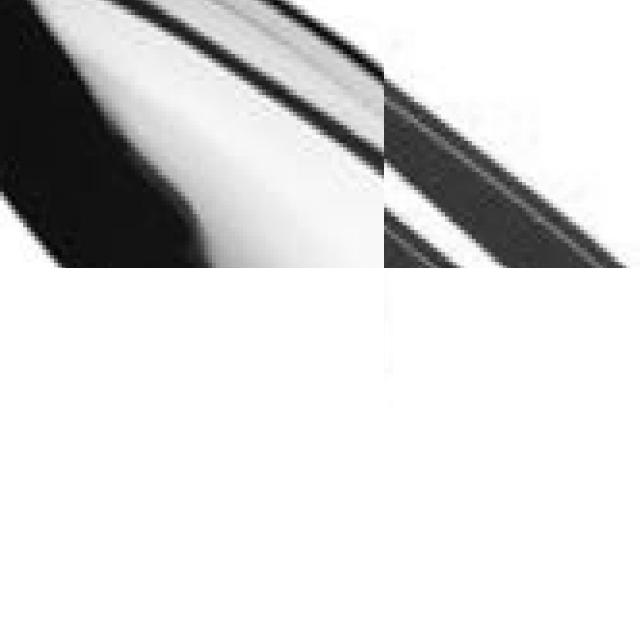forks: (384, 0, 640, 268)
spoons: (0, 0, 384, 268)
